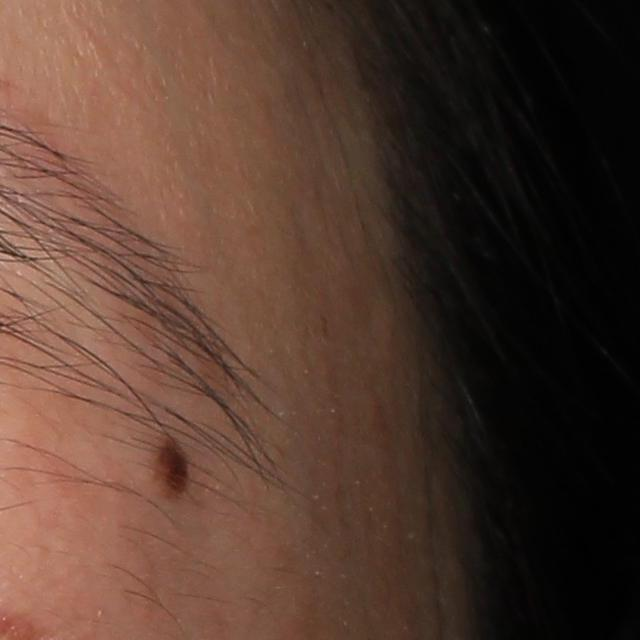nevus: (147, 421, 197, 512)
